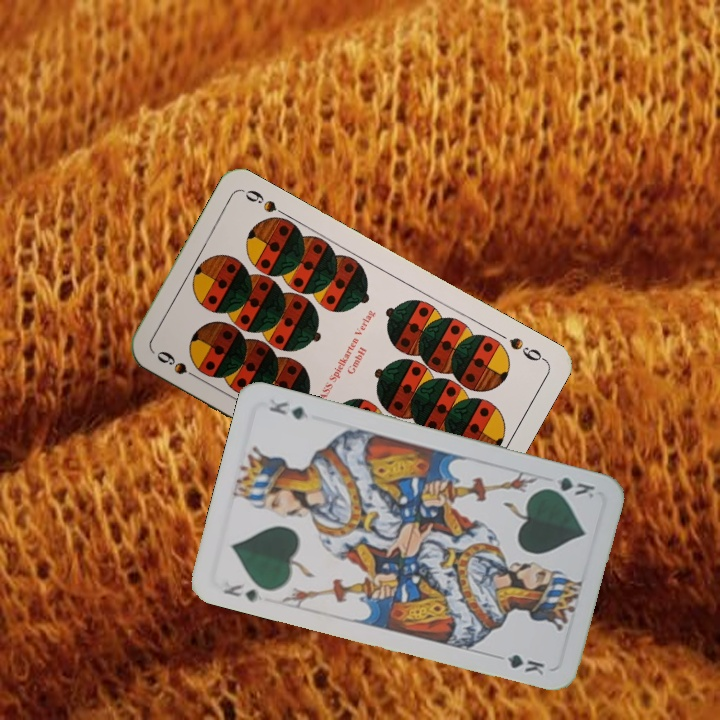GK: (540, 473, 598, 502), (218, 579, 266, 604)
S9: (152, 346, 205, 384), (505, 333, 548, 364)
